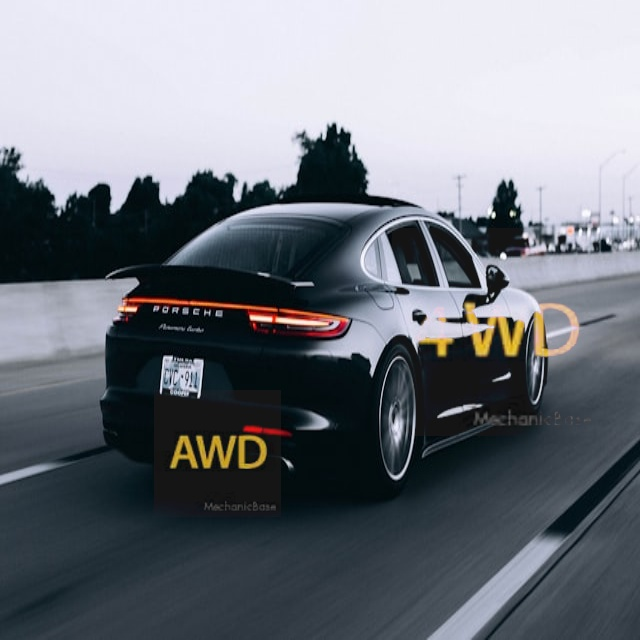symbol: (392, 228, 600, 436), (154, 390, 281, 517)
